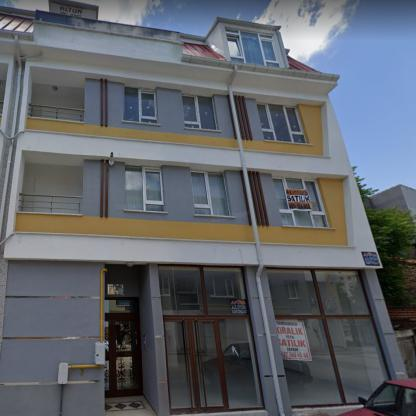door: (163, 316, 228, 414), (106, 312, 142, 397)
window: (266, 269, 390, 407), (158, 265, 263, 410), (272, 178, 328, 228), (226, 29, 280, 68), (256, 103, 306, 143), (191, 170, 230, 216), (125, 166, 164, 211), (124, 86, 158, 123), (182, 94, 216, 129)
